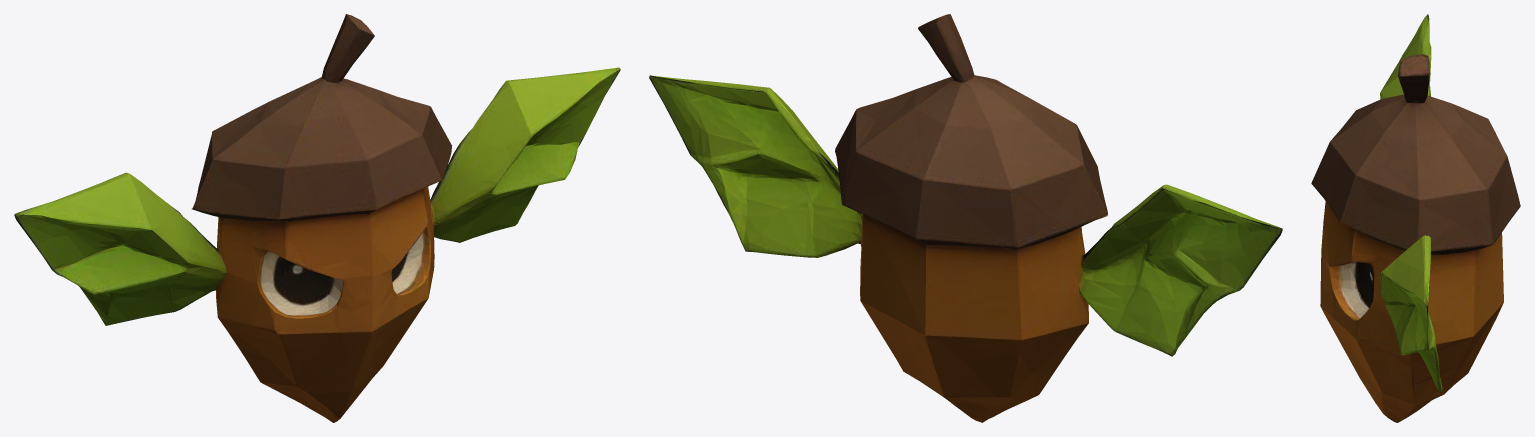
The model's file is m_gland_volant.glb.
3 views of the same model, side by side, from view 1: azimuth 30°, elevation 25°; view 2: azimuth 150°, elevation 25°; view 3: azimuth 270°, elevation 25° (orthographic). The views are drawn at different scales.
Visible parts, largest first — view 1: geometry_0; view 2: geometry_0; view 3: geometry_0.
Part boxes in pixels (x1=…): geometry_0: x1=14, y1=14, x2=620, y2=422; geometry_0: x1=649, y1=14, x2=1282, y2=422; geometry_0: x1=1311, y1=14, x2=1520, y2=422.
Bounding box in the file's own units: 1 × 0.6175 × 0.3071.
1 material, 1 textured.
